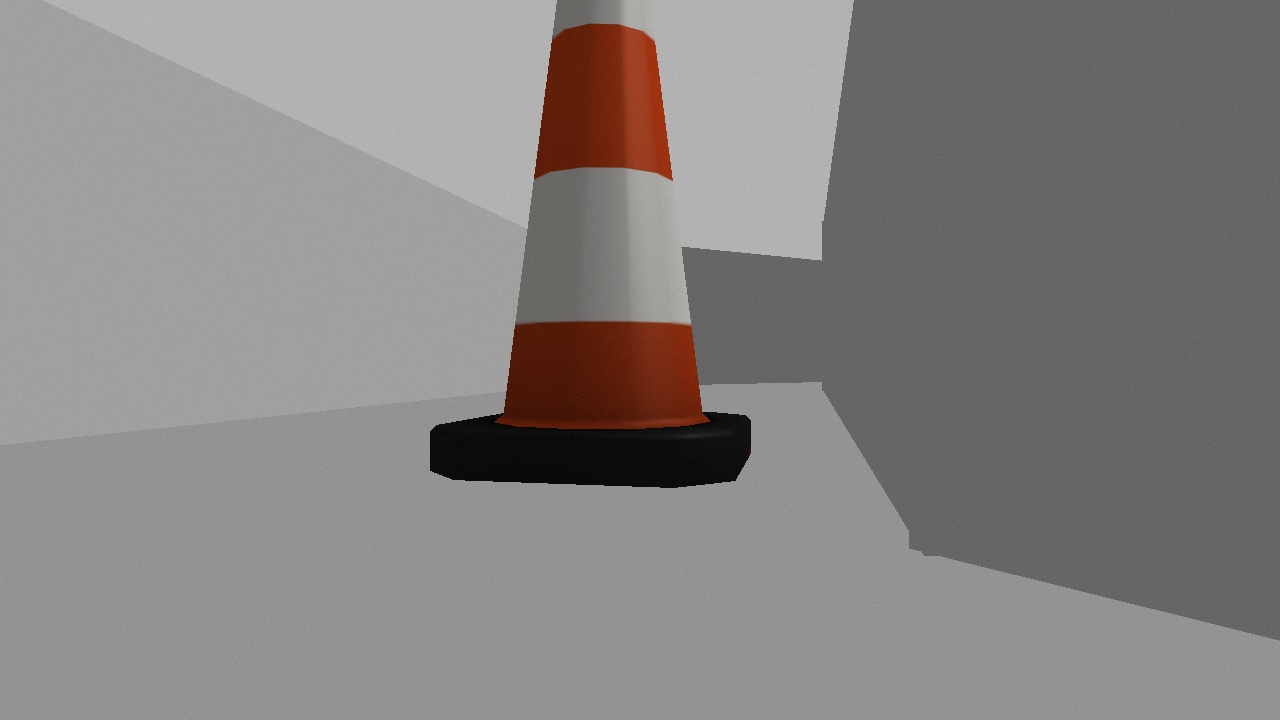barricade: (430, 1, 753, 486)
